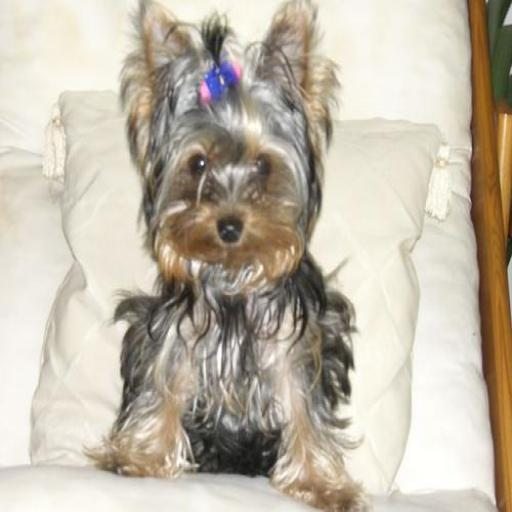dog_face: (116, 6, 328, 292)
